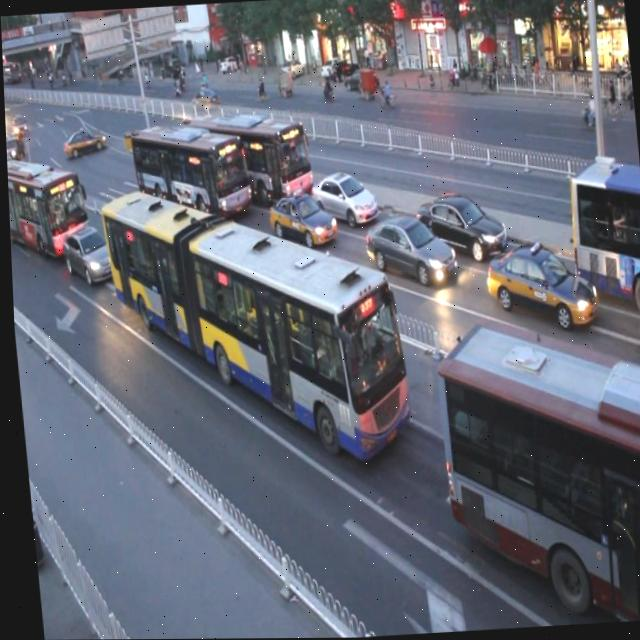car: (480, 243, 597, 348), (358, 212, 452, 298), (414, 193, 507, 271), (262, 188, 335, 258), (305, 167, 375, 237), (60, 226, 116, 286), (631, 283, 640, 361)
van: (95, 172, 412, 480), (430, 314, 640, 632), (126, 115, 252, 235), (186, 104, 314, 216), (561, 160, 640, 312), (5, 149, 87, 253)
